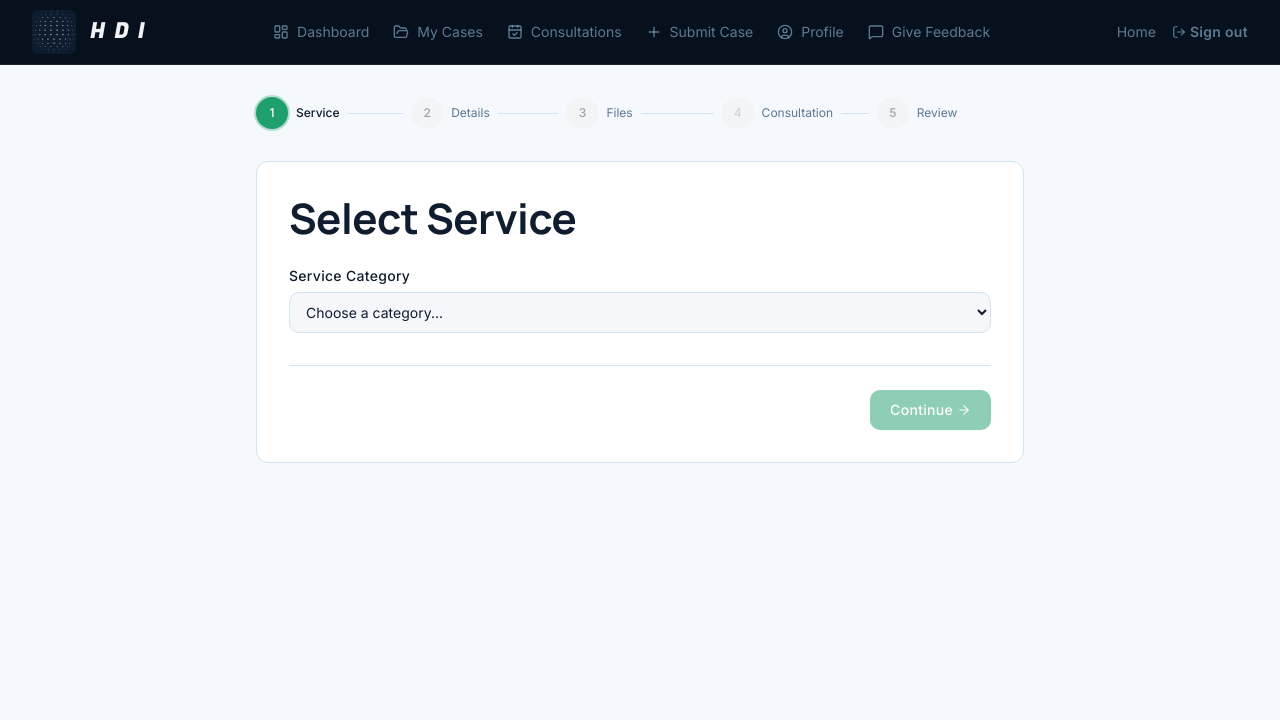
it: SubmitCase — Step 1: Case Details › renders Standard and Rush delivery radio buttons
Select "Surgical Guide" in the dropdown at (640, 313), box [289,292,991,333]
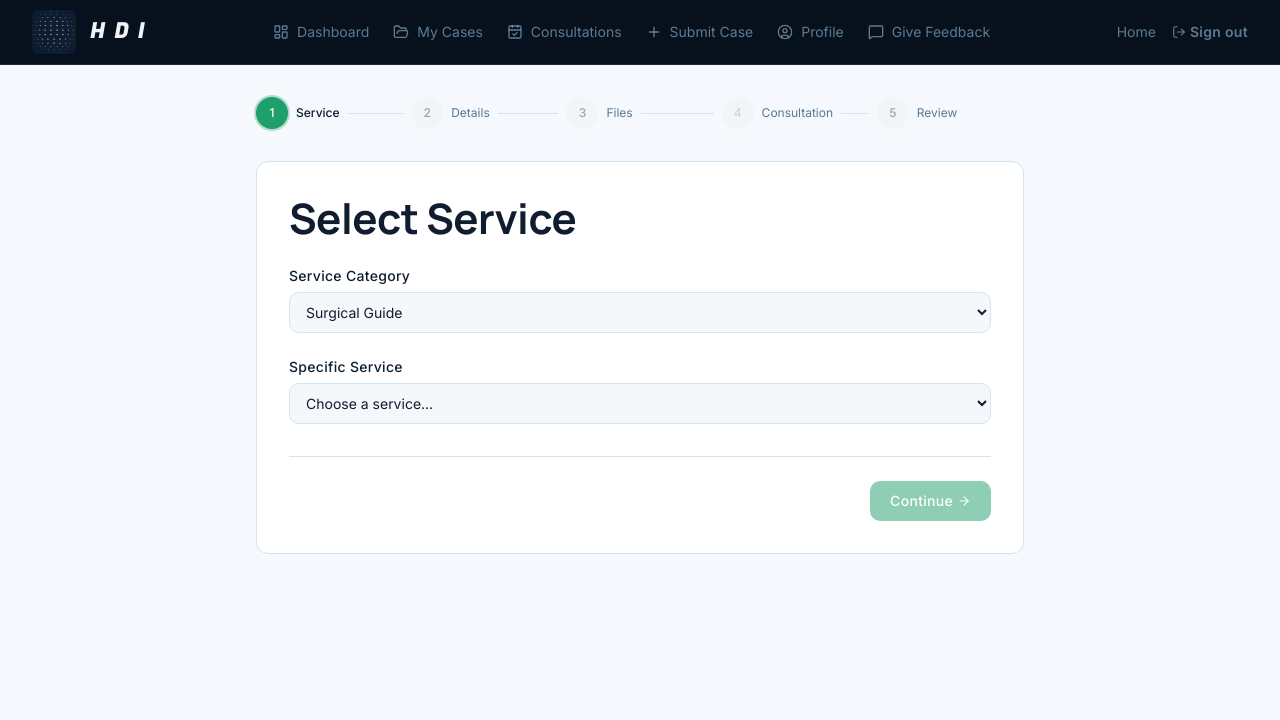
Select "SG01 — Surgical Guide Basic — $150.00" in the dropdown below "Specific Service" at (640, 404), box [289,383,991,424]
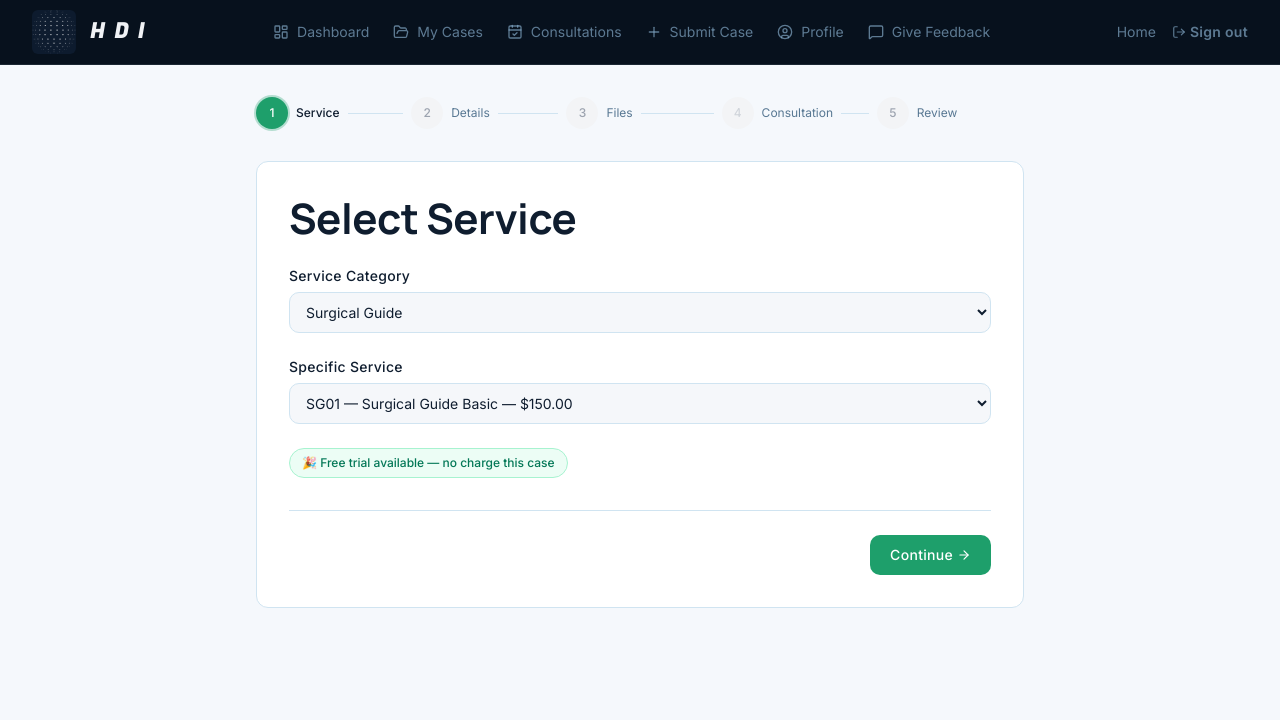
Click the button "Continue".
click(931, 555)  # box [870,535,991,575]
(page scrolled)
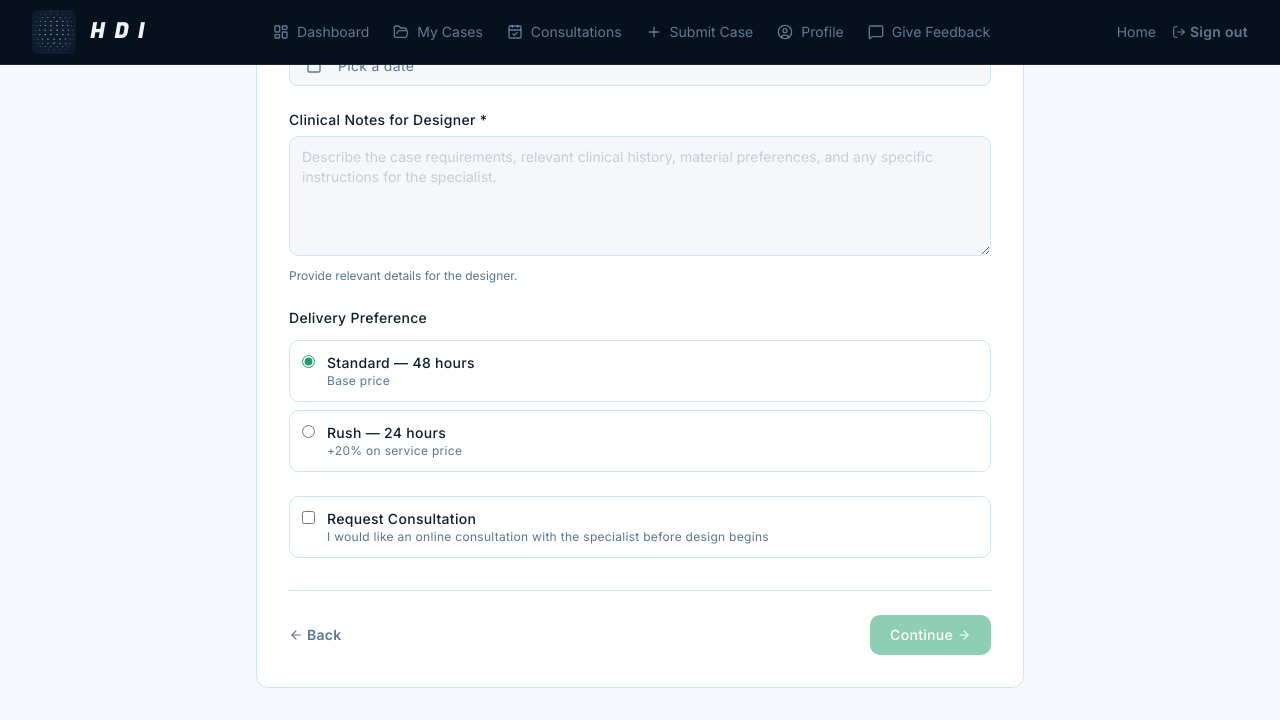
Expected: the text "Standard — 48 hours" is shown, [327,353,475,373]
Expected: the text "Rush — 24 hours" is shown, [327,423,462,443]
